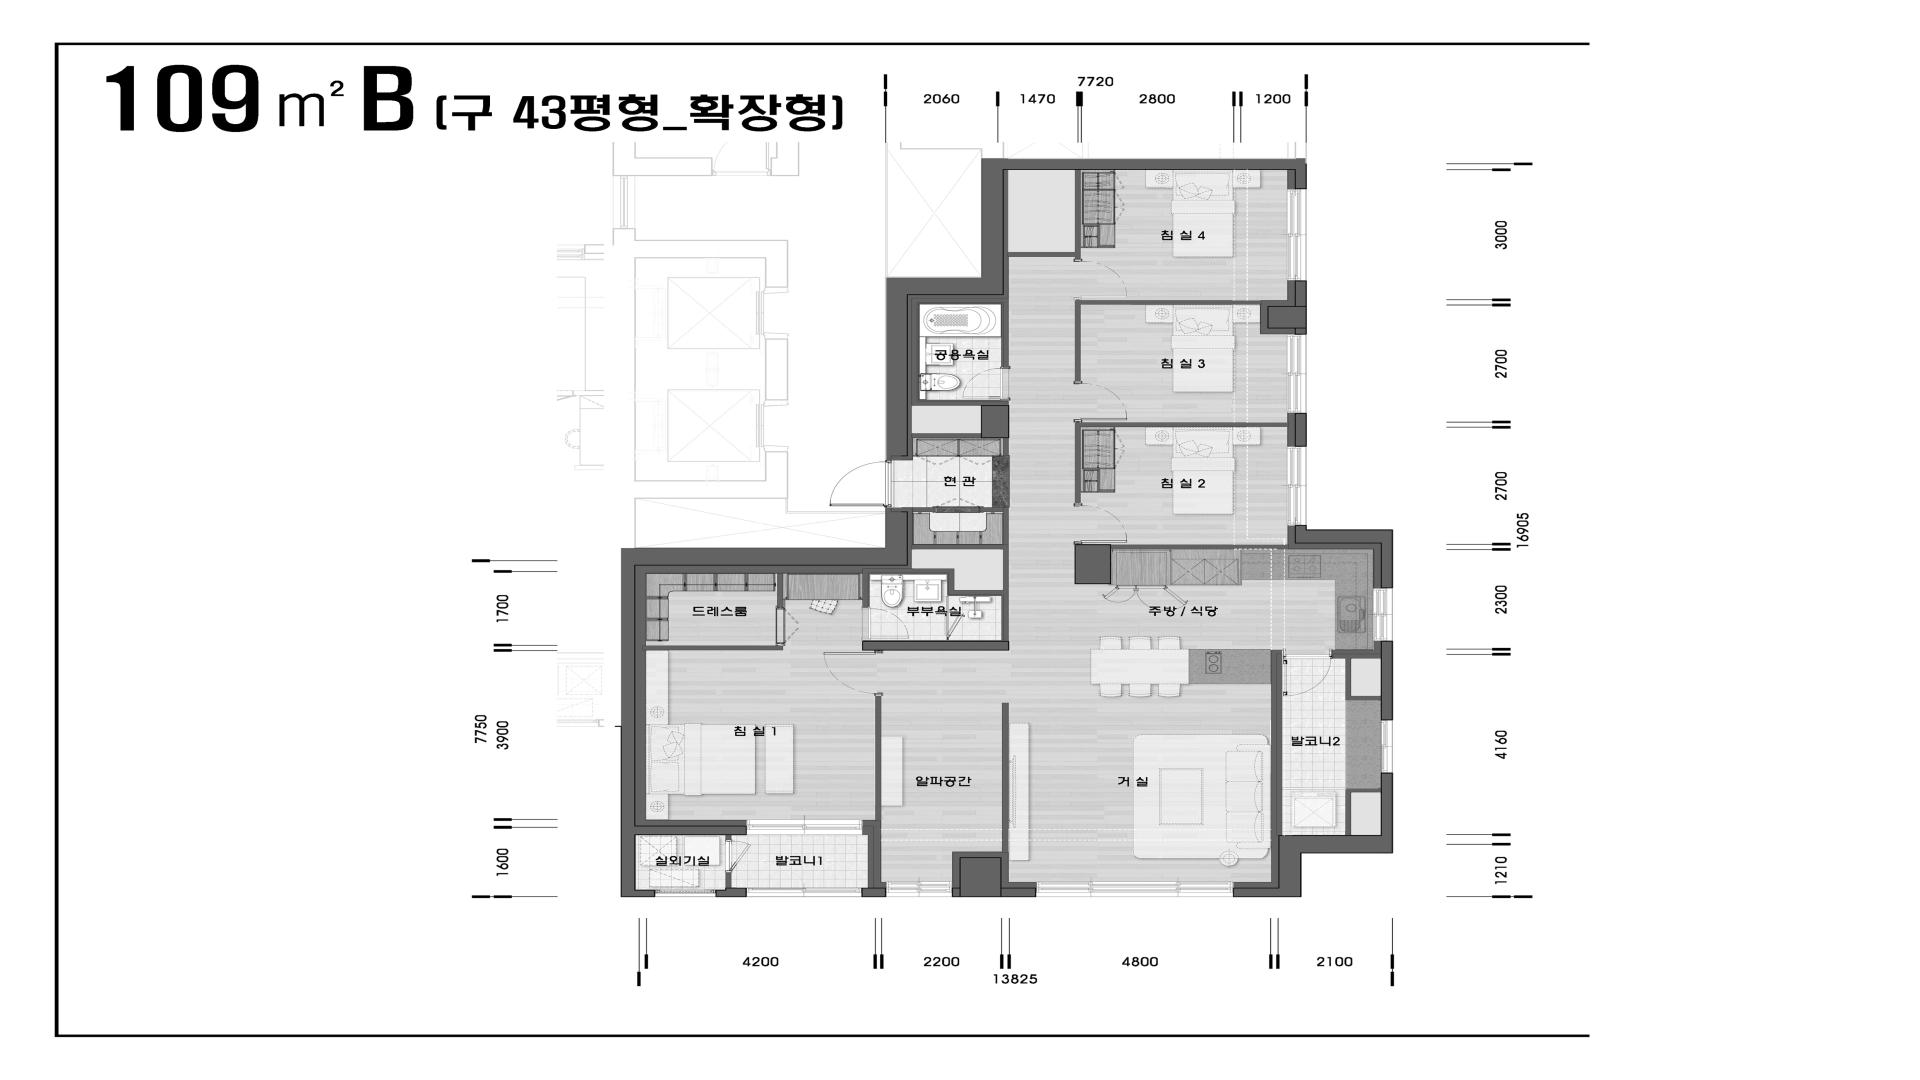door: (829, 459, 891, 508), (823, 650, 884, 696), (1282, 650, 1333, 696), (1073, 258, 1127, 301), (1073, 381, 1127, 422), (1073, 504, 1127, 545), (963, 368, 1010, 401), (861, 608, 909, 641), (775, 608, 799, 646), (725, 840, 752, 873), (945, 609, 964, 641)
wall: (621, 549, 636, 890), (636, 549, 909, 566), (886, 278, 909, 460), (1004, 158, 1307, 170), (981, 158, 1004, 278), (1278, 835, 1381, 853), (1295, 525, 1394, 543), (960, 857, 1002, 897), (909, 278, 1004, 295), (1075, 545, 1112, 584), (862, 641, 1009, 650), (1081, 422, 1288, 427), (1278, 853, 1302, 897), (636, 825, 746, 835), (1002, 703, 1009, 852), (1381, 773, 1393, 853), (1276, 654, 1282, 835), (1381, 641, 1393, 720), (981, 405, 1009, 438), (885, 508, 907, 547), (1267, 306, 1307, 328), (1081, 301, 1262, 305), (1004, 508, 1009, 641), (1112, 545, 1288, 549), (911, 303, 918, 406), (876, 696, 881, 820), (1381, 543, 1394, 588), (642, 646, 783, 650), (1075, 423, 1081, 504), (1075, 301, 1081, 381), (911, 298, 1009, 303), (911, 545, 1004, 550), (918, 401, 1009, 406), (1075, 170, 1080, 258), (869, 568, 955, 574), (1233, 887, 1278, 897), (1295, 413, 1307, 447), (1007, 252, 1075, 257), (1004, 303, 1009, 368), (1001, 887, 1036, 897), (1295, 281, 1307, 306), (716, 887, 746, 897), (868, 835, 873, 887), (1345, 793, 1352, 835), (1345, 658, 1352, 700), (911, 434, 981, 438), (862, 568, 869, 608), (861, 887, 886, 897), (621, 890, 655, 897), (1295, 170, 1307, 189), (1332, 654, 1381, 658), (955, 591, 1004, 595), (778, 572, 783, 608), (1345, 789, 1381, 793), (948, 574, 955, 595), (1352, 696, 1381, 700), (862, 825, 873, 835), (725, 873, 732, 887), (1004, 438, 1009, 455), (981, 508, 1004, 512), (913, 508, 935, 512), (1295, 328, 1307, 335), (952, 887, 960, 897), (945, 596, 949, 609), (725, 835, 732, 840)
window: (1036, 881, 1233, 897), (746, 819, 862, 835), (1287, 189, 1307, 281), (1287, 447, 1307, 525), (1287, 335, 1305, 413), (746, 887, 861, 897), (886, 881, 952, 897), (1373, 588, 1393, 641), (1381, 720, 1393, 773), (655, 890, 716, 897)
